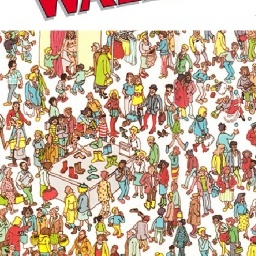waldo: (93, 113, 112, 143), (96, 113, 106, 124)
